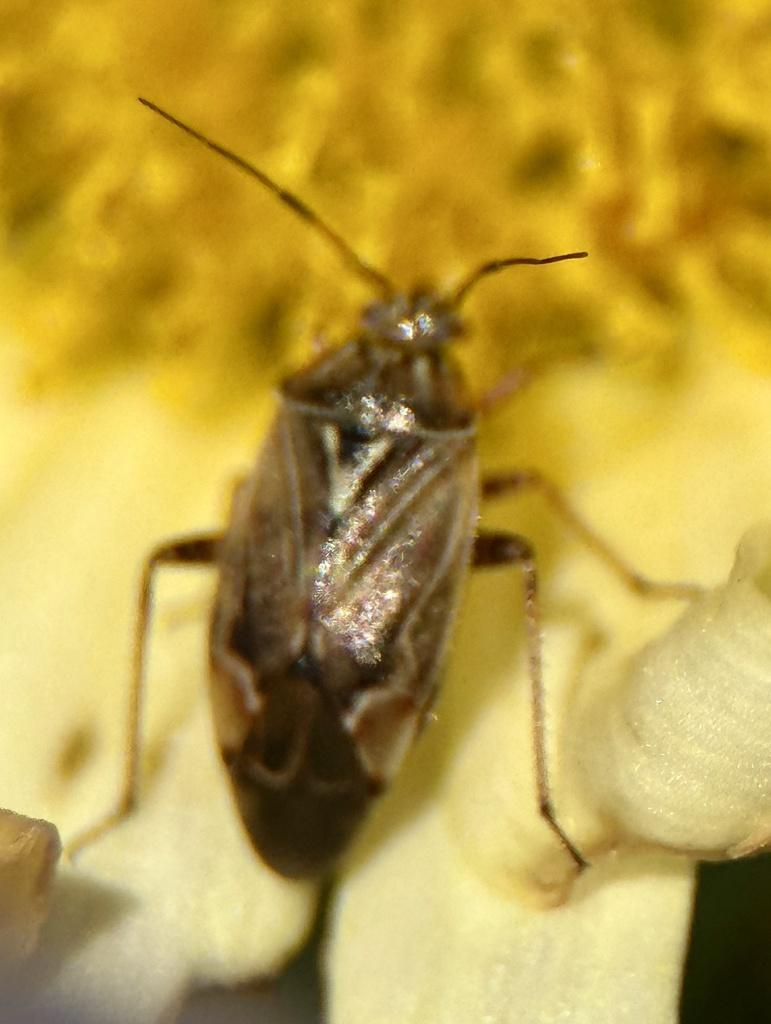plant_bugs: (13, 11, 700, 927)
